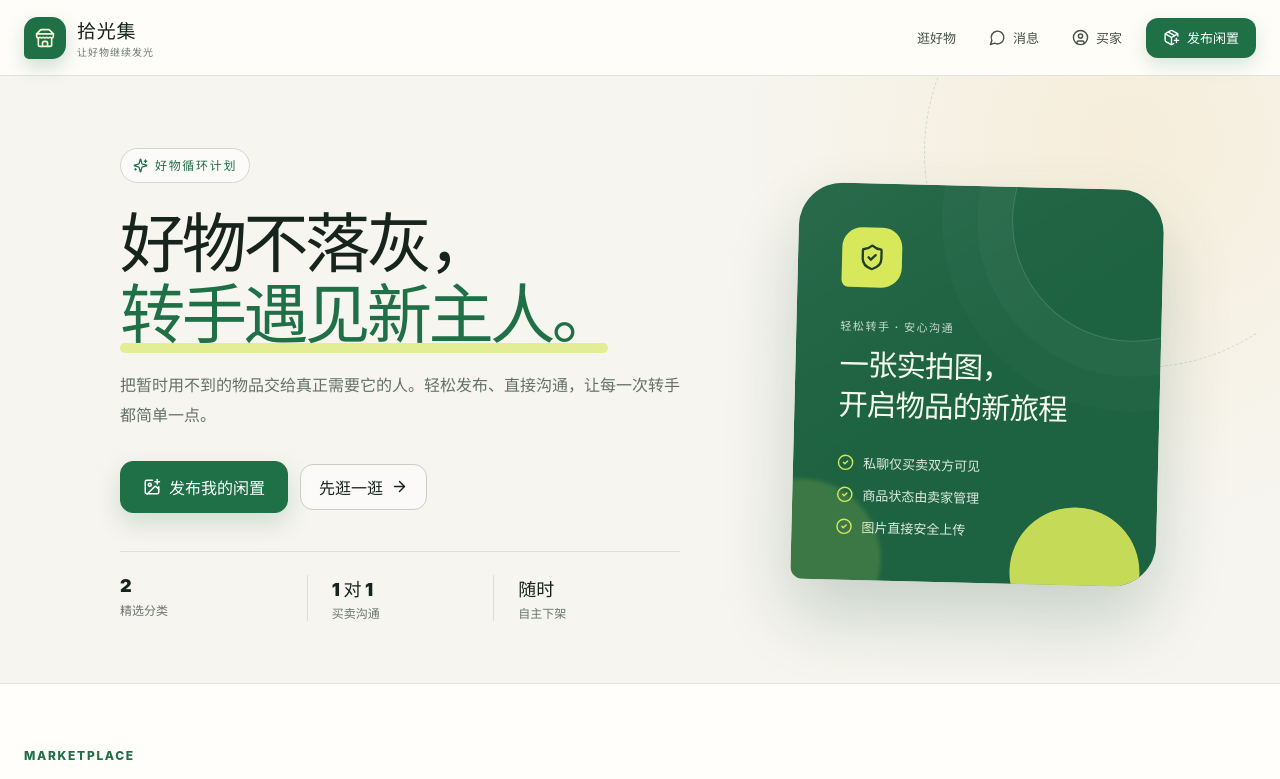
Test: marketplace app › ignores an old conversation response after switching to another conversation
What coordinates should you click on to do the following:
click the button "消息"
I would click on:
 (1014, 38)
Its box is [976,18,1052,58].
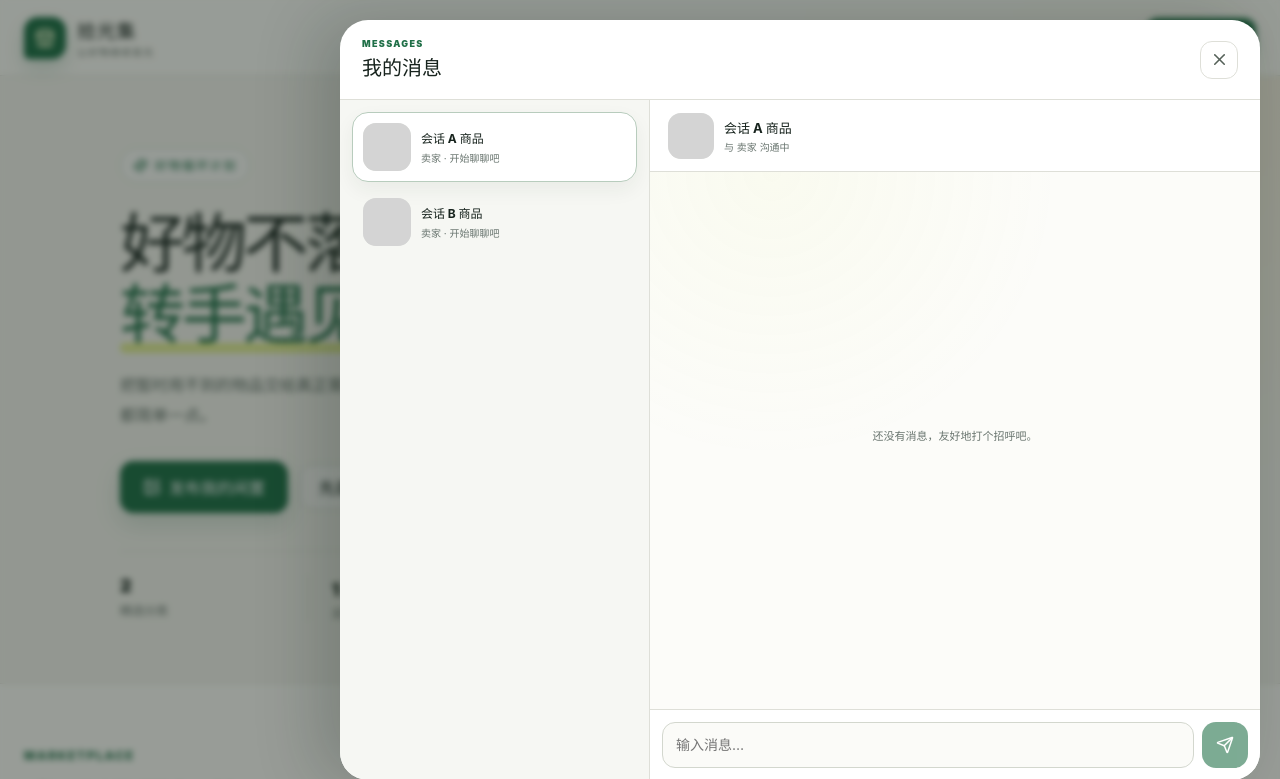
What coordinates should you click on to do the following:
click the button "会话 B 商品 卖家 · 开始聊聊吧"
I would click on:
 (387, 222)
Its box is [352,187,637,257].
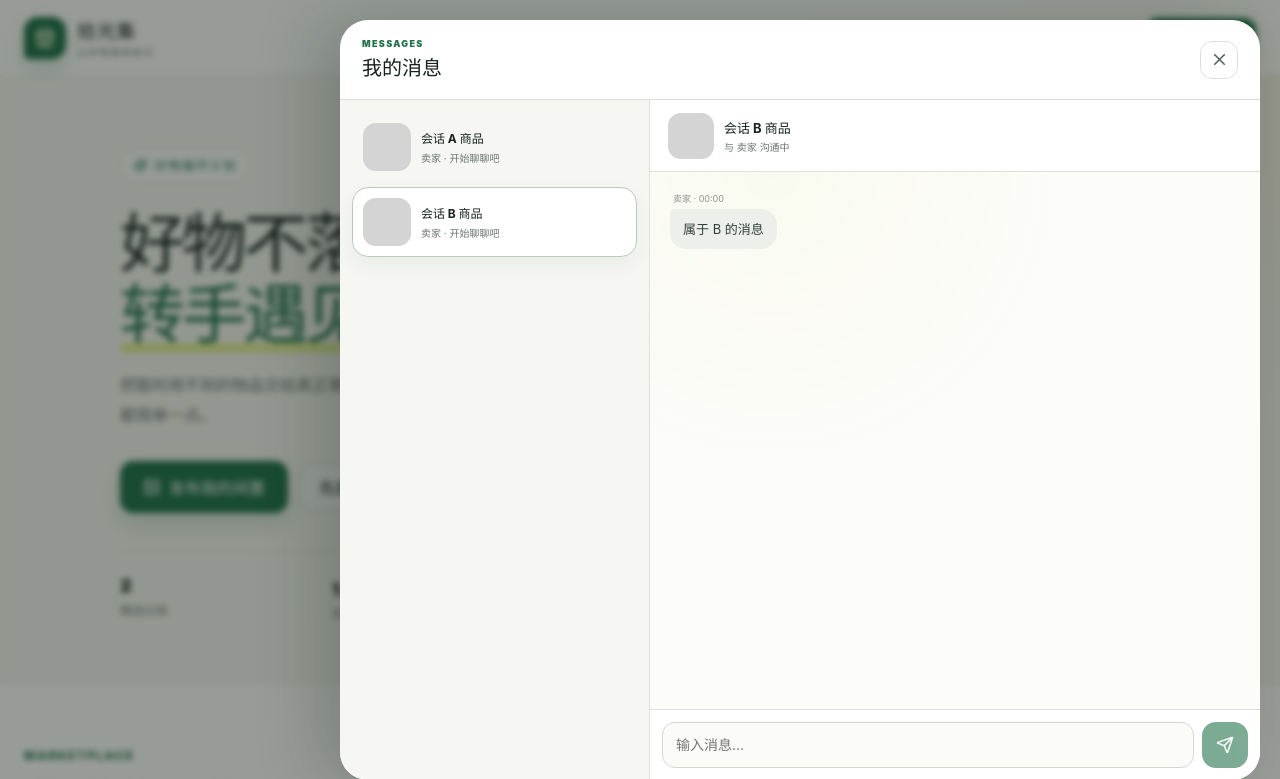
Expected: the text "属于 B 的消息" is shown, [670,209,777,249]
Expected: the element with class "marketplace-message-title" shows "会话 B 商品", [724,120,791,136]
